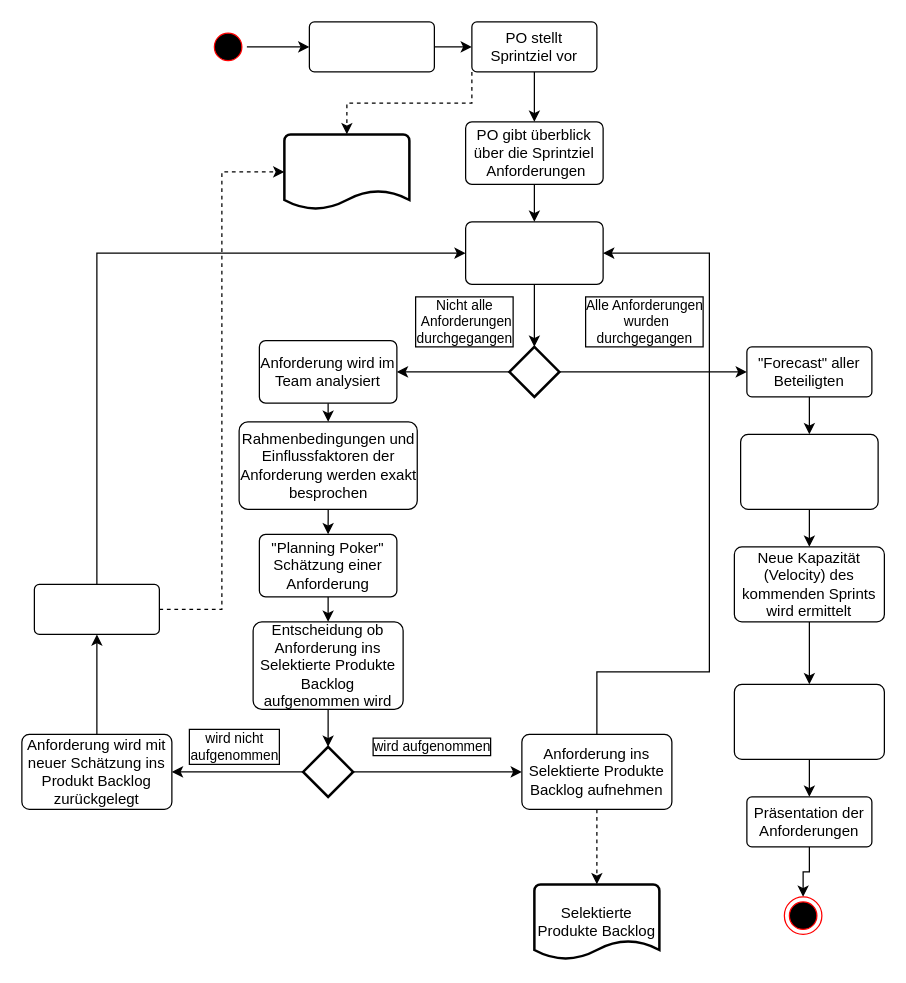
Image size: 906x983. Some labels were removed from this diagram. Each missing label, with the box of its shape:
Ergebnisse des vorherigen Sprints werden angesehen: (739, 433, 878, 509)
Ergebnisse werden im Tool "Confluence" dokumentiert: (733, 683, 884, 759)
Jede Anforderung wird nacheinander durchgegangen: (464, 221, 603, 284)
PO stellt Agenda vor: (308, 21, 434, 72)
Prüfen ob das Ziel anzupassen ist: (33, 583, 159, 634)
Ziel: (282, 132, 410, 210)
